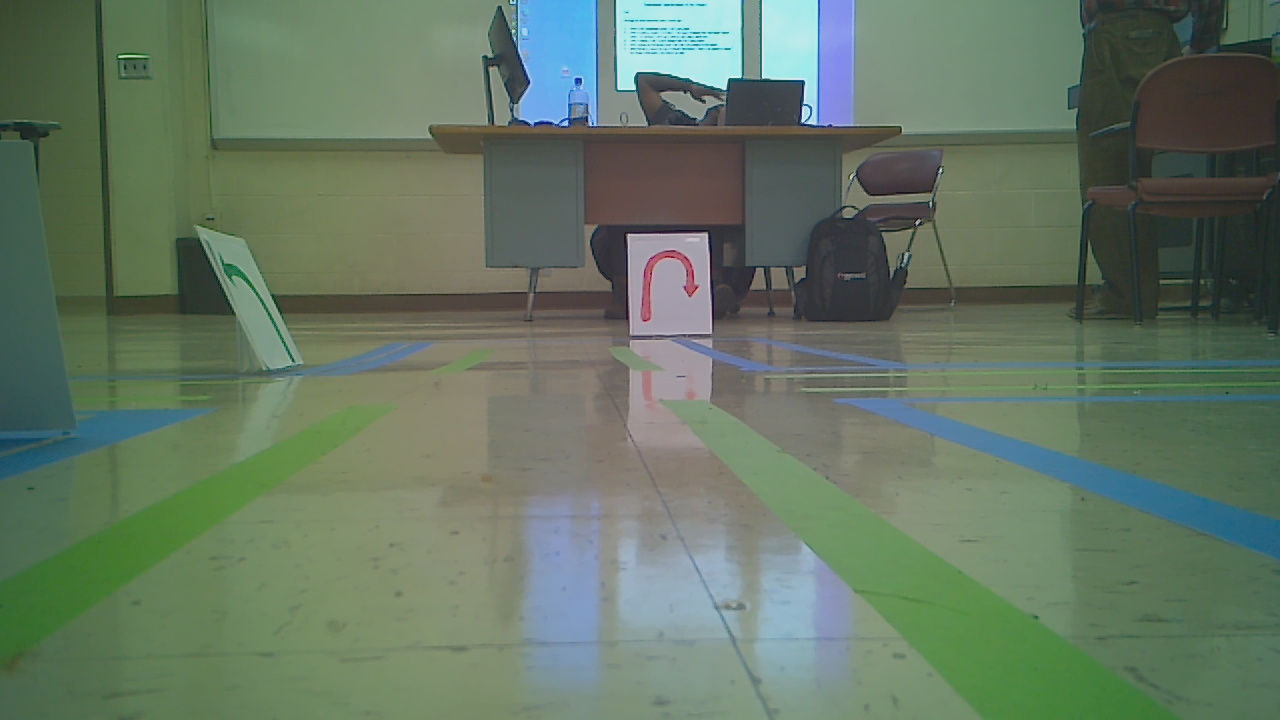greenline: (660, 402, 1170, 720), (0, 405, 391, 664)
uturn: (637, 247, 703, 322)
